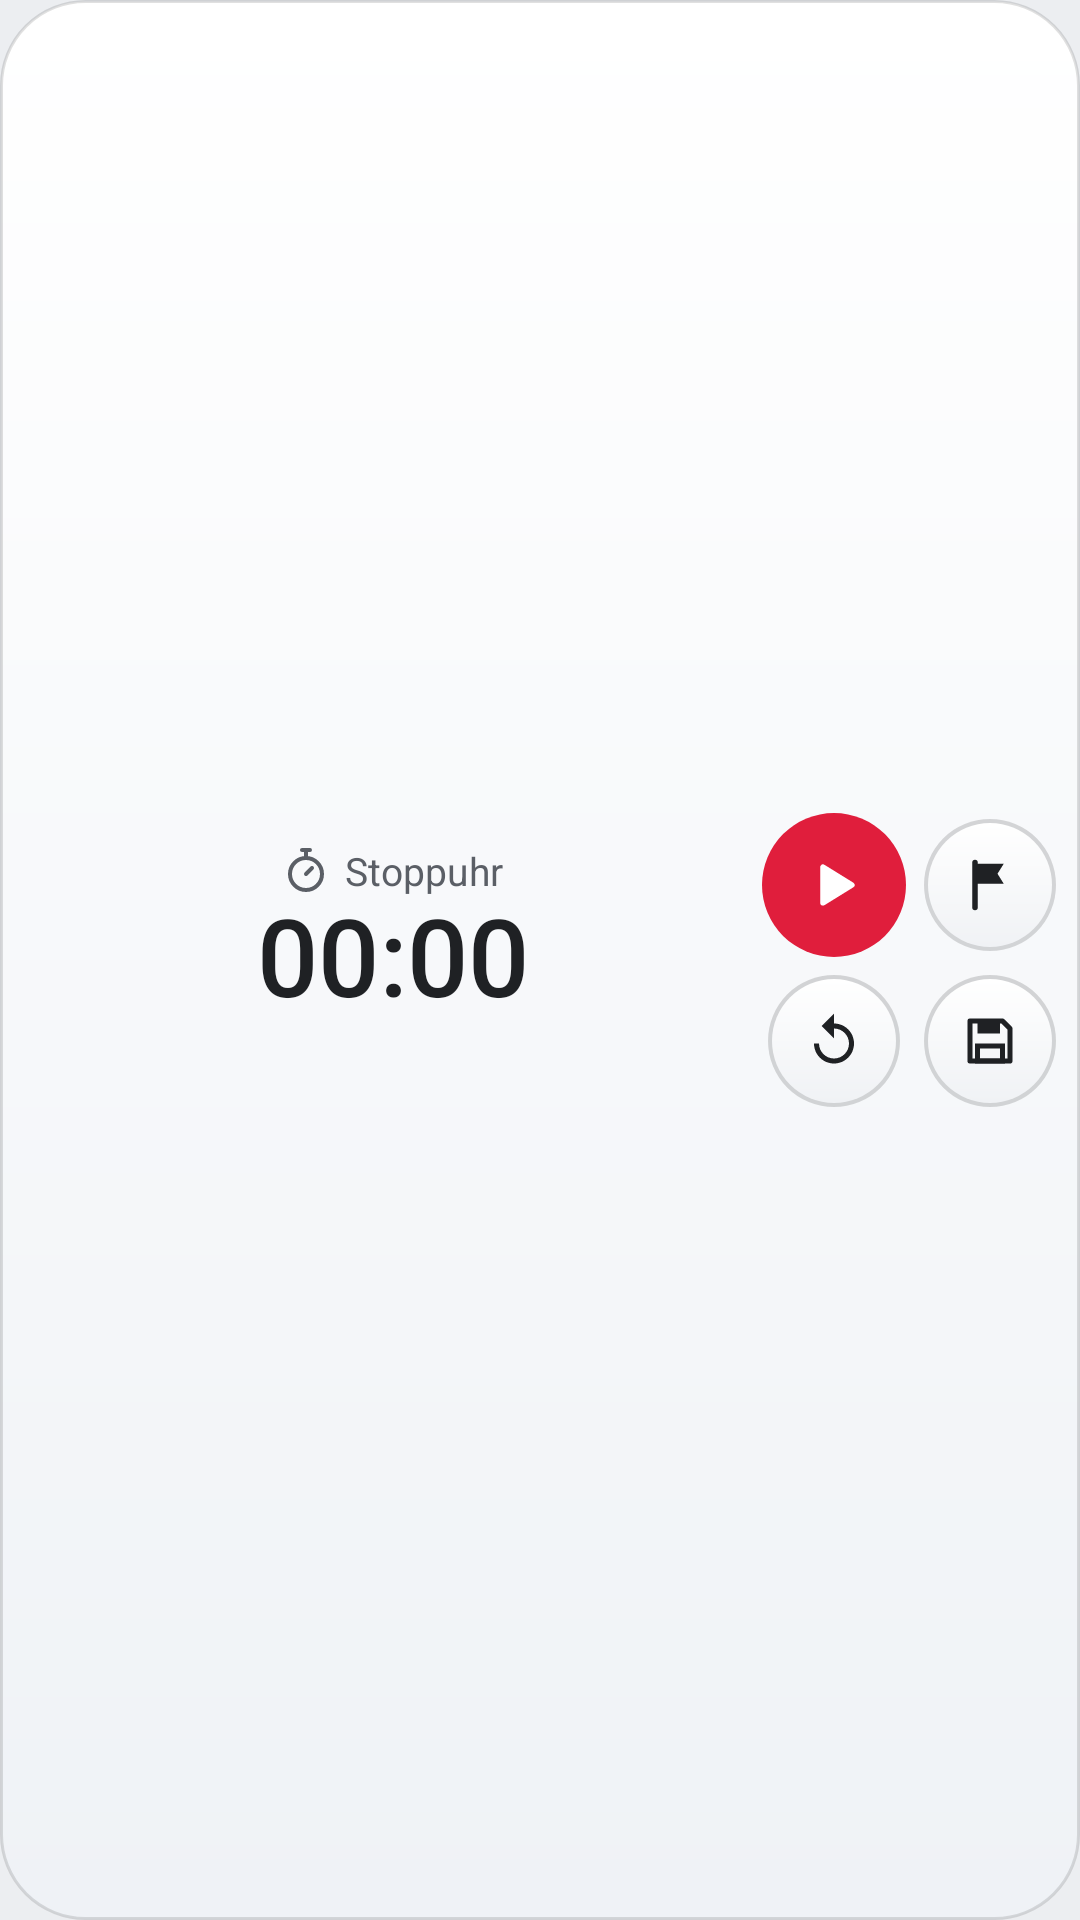

Icon bounding boxes for this 1080 × 1920 phone screenshot, format (x1, y1, x2, y2):
Runde: (924, 819, 1056, 951)
Start oder Stopp: (762, 813, 906, 957)
Zeit speichern: (924, 975, 1056, 1107)
Zurücksetzen: (768, 975, 900, 1107)
